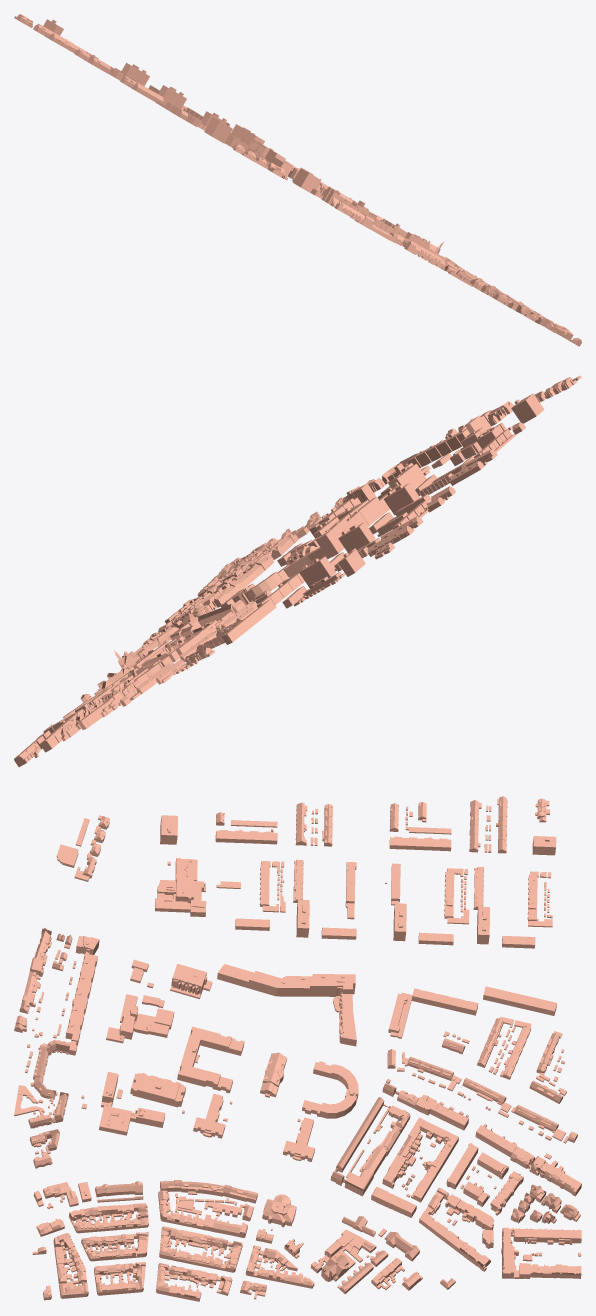
The picture shows the model from 3 angles, top to bottom: view 1: azimuth 30°, elevation 25°; view 2: azimuth 150°, elevation 25°; view 3: azimuth 270°, elevation 25°; orthographic projection. The views are drawn at different scales.
Bounding box in the file's own units: 527 × 383 × 629.
